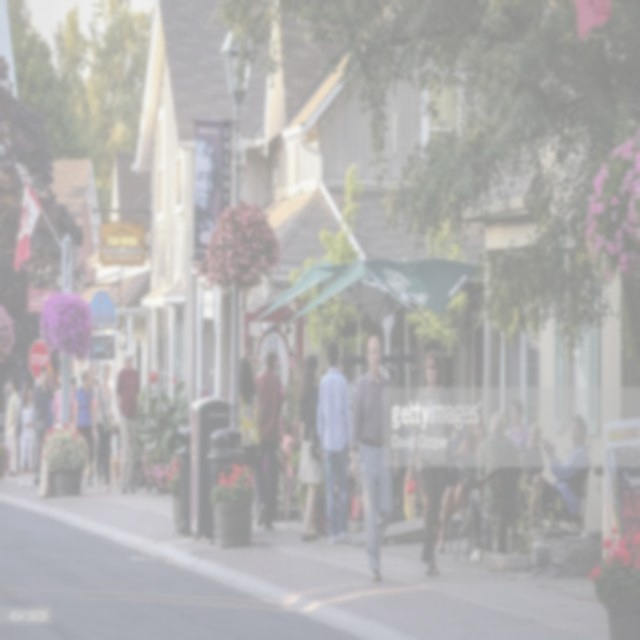pessoa: (348, 334, 402, 584), (402, 347, 460, 577), (314, 338, 356, 546), (468, 410, 522, 566), (436, 408, 486, 556), (530, 413, 590, 529), (252, 348, 286, 534), (296, 352, 326, 542), (113, 346, 141, 494), (90, 359, 118, 492), (194, 138, 222, 254), (72, 366, 96, 492), (32, 364, 55, 487), (238, 354, 260, 480), (12, 380, 37, 488), (518, 421, 546, 487), (4, 376, 20, 478), (50, 370, 76, 430), (508, 396, 530, 462), (282, 414, 302, 484), (90, 378, 100, 478), (451, 403, 472, 450), (449, 411, 469, 453), (46, 381, 62, 432), (401, 420, 411, 470), (70, 374, 78, 426)
